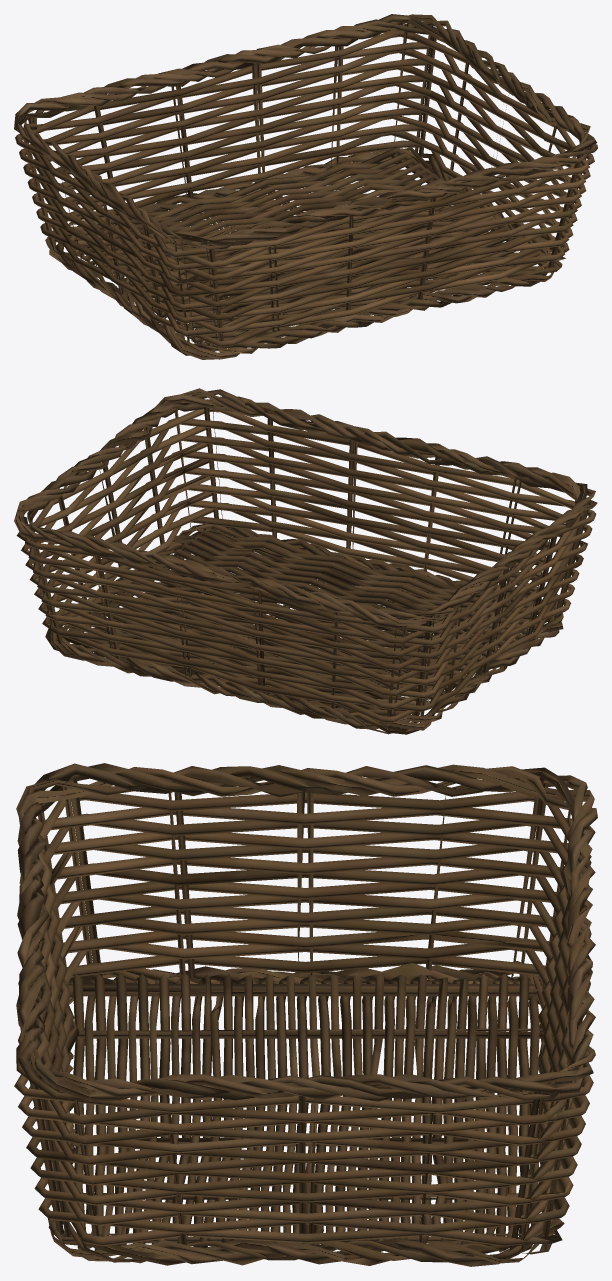
Rendered from basket.glb.
3 views of the same model, one above another, from view 1: azimuth 30°, elevation 25°; view 2: azimuth 150°, elevation 25°; view 3: azimuth 270°, elevation 25° (orthographic). The views are drawn at different scales.
Parts seen in each view (by area): view 1: wicker_basket_01; view 2: wicker_basket_01; view 3: wicker_basket_01.
Boxes of the visible parts, bbox=[...] form: wicker_basket_01: bbox=[14, 14, 597, 359]; wicker_basket_01: bbox=[14, 388, 597, 734]; wicker_basket_01: bbox=[14, 763, 597, 1266].
Size of the model in its own units: 0.383 by 0.1174 by 0.2939.
Materials: 1 (1 with a texture image).
